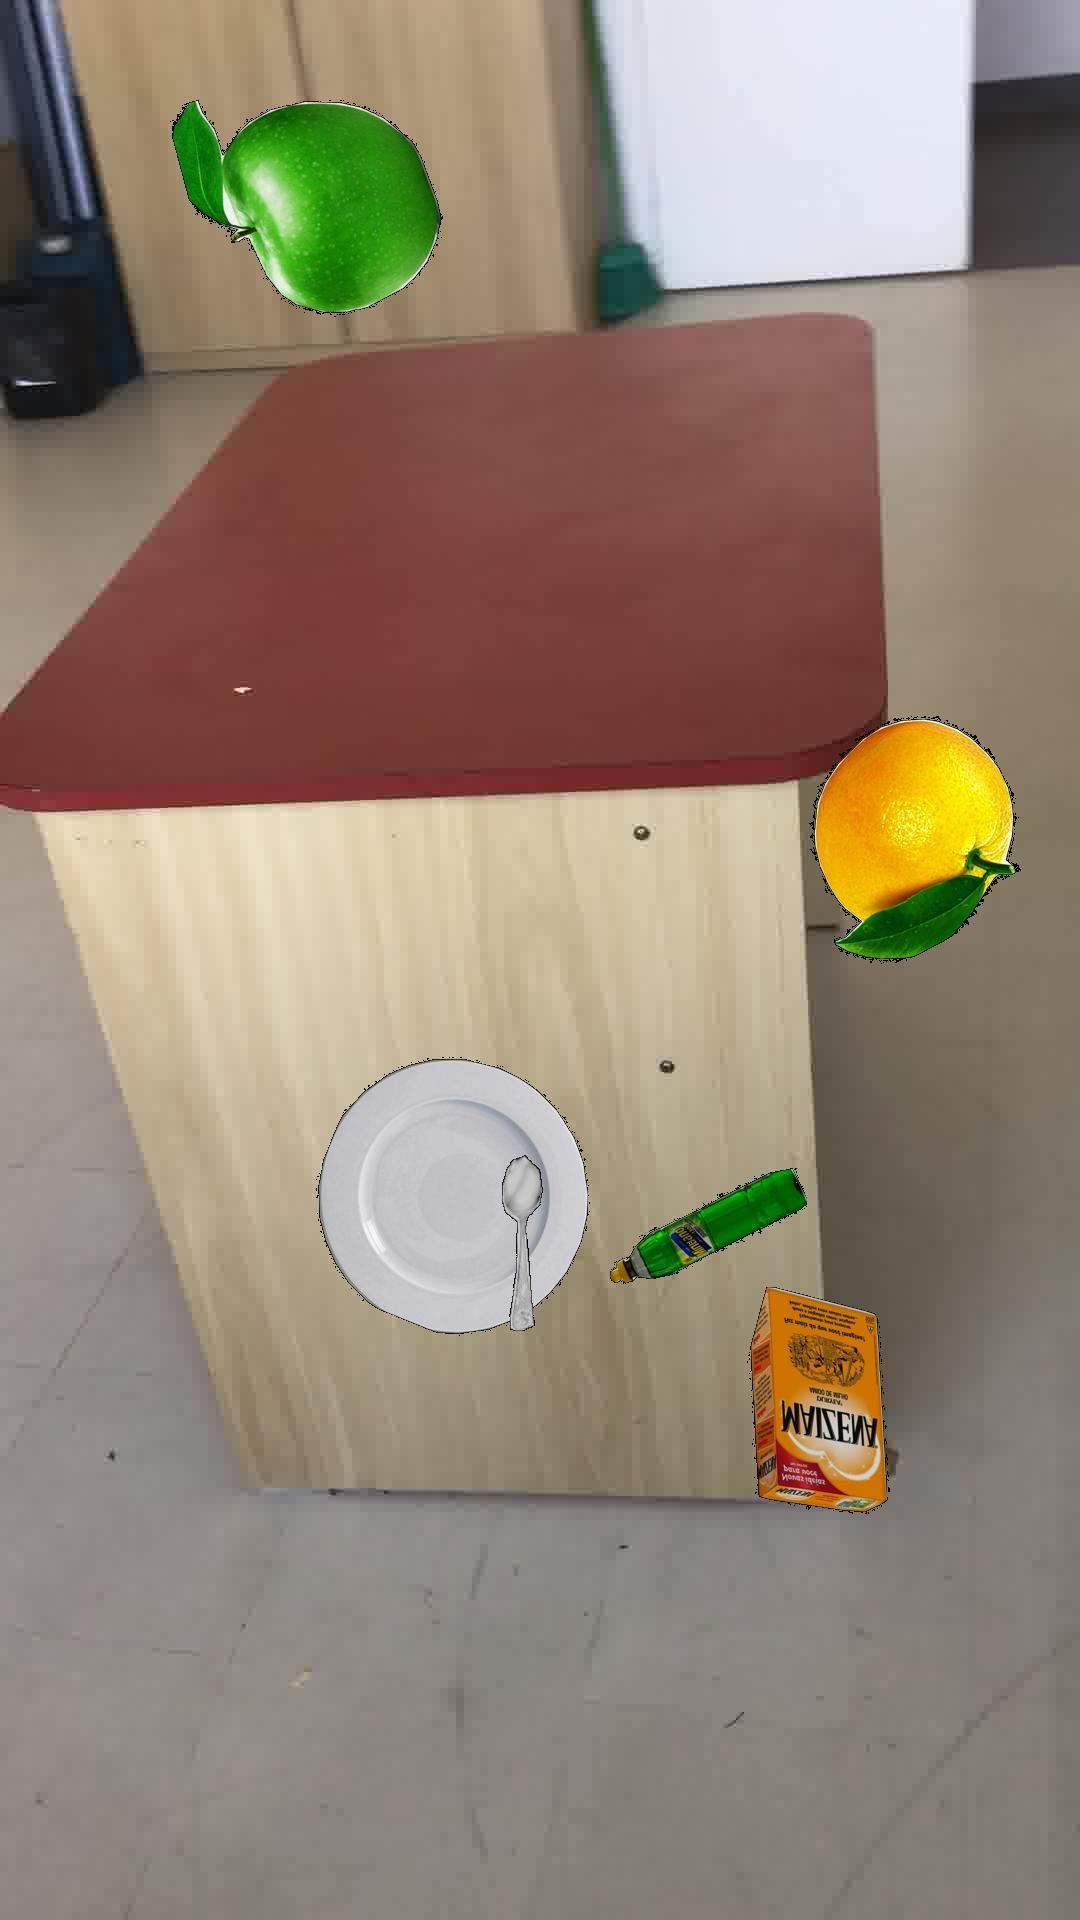cleaner: (608, 1167, 806, 1283)
green apple: (170, 99, 442, 314)
orange: (807, 716, 1019, 961)
plate: (314, 1058, 588, 1332)
spoon: (501, 1154, 542, 1329)
